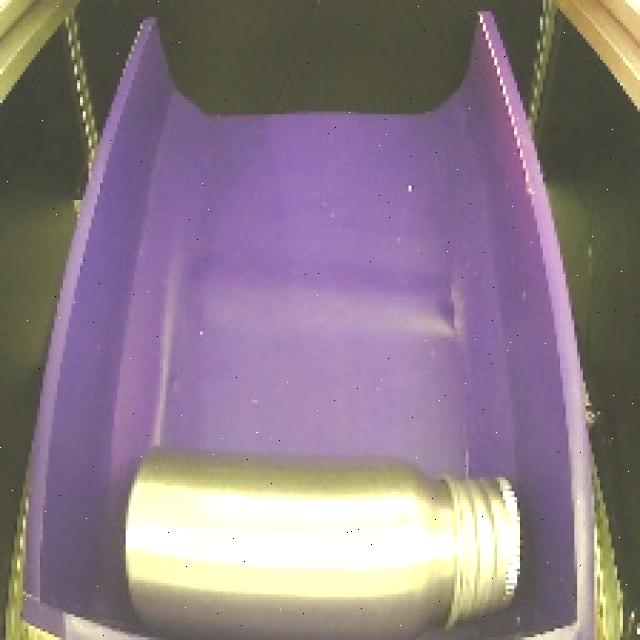metal: (106, 435, 542, 640)
